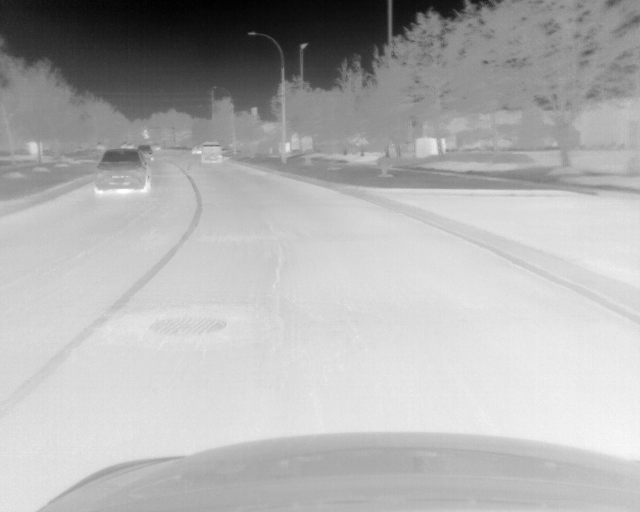car: (95, 146, 150, 194), (198, 142, 223, 164), (138, 144, 152, 160)
